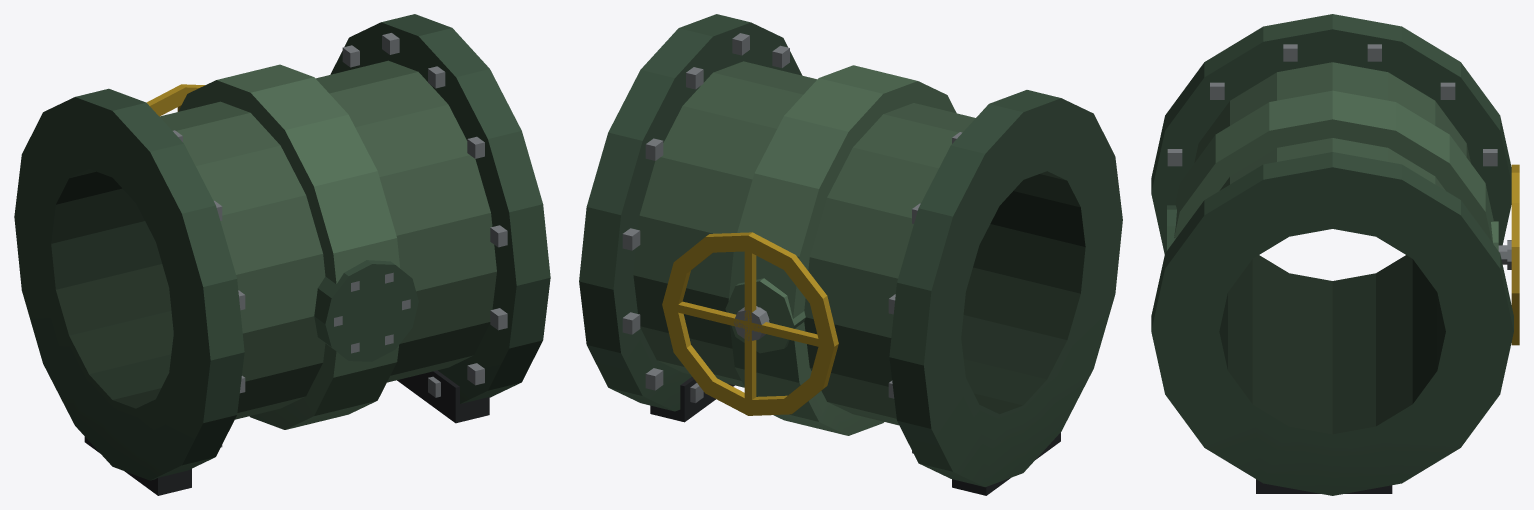
File: pipe.valve.green.glb
The picture shows the model from 3 angles, left to right: view 1: azimuth 30°, elevation 25°; view 2: azimuth 150°, elevation 25°; view 3: azimuth 270°, elevation 25°; orthographic projection. The views are drawn at different scales.
Visible parts, largest first — view 1: pipe_valve_green; view 2: pipe_valve_green; view 3: pipe_valve_green.
Boxes of the visible parts, bbox=[...] form: pipe_valve_green: bbox=[14, 14, 550, 495]; pipe_valve_green: bbox=[579, 14, 1122, 495]; pipe_valve_green: bbox=[1151, 14, 1519, 495].
Size of what is drawn, in the model's own units: 1.6 by 1.6 by 1.62.
